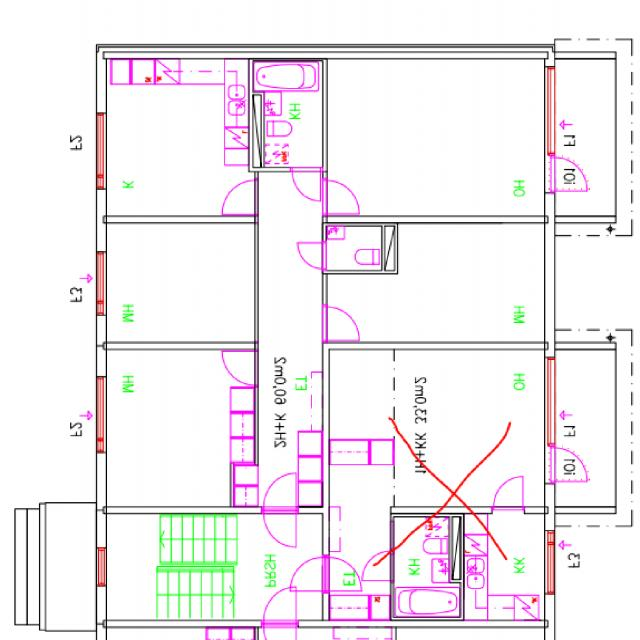door: (545, 157, 589, 192), (264, 504, 296, 546), (264, 471, 296, 512), (322, 306, 360, 340), (222, 179, 259, 213), (223, 352, 259, 385), (323, 180, 358, 213), (292, 168, 320, 202), (297, 242, 327, 269)
